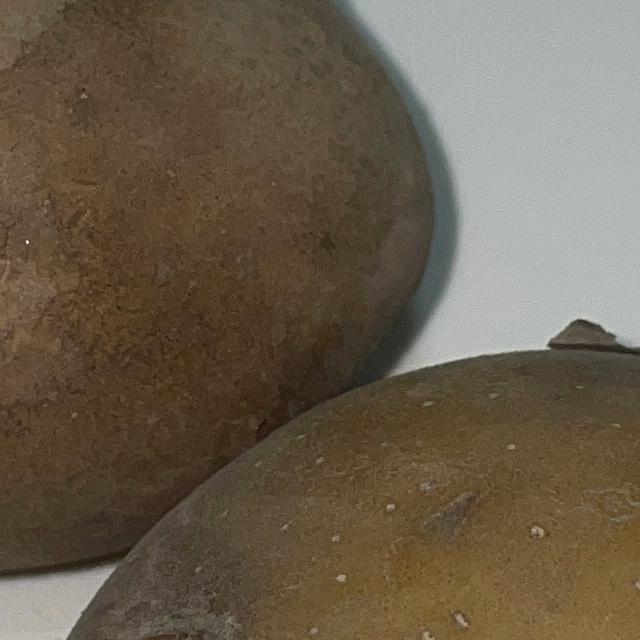potato: (0, 0, 455, 583), (0, 307, 640, 640)
